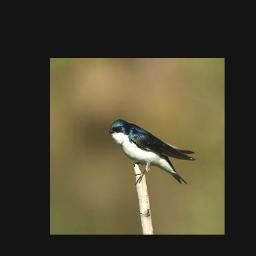Swallow: (107, 118, 197, 188)
